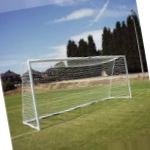goals: (20, 54, 133, 132)
